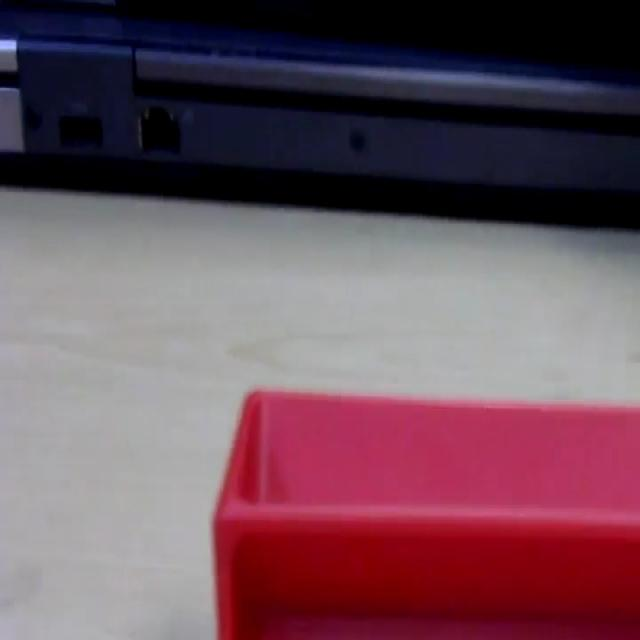red_block: (212, 383, 638, 636)
